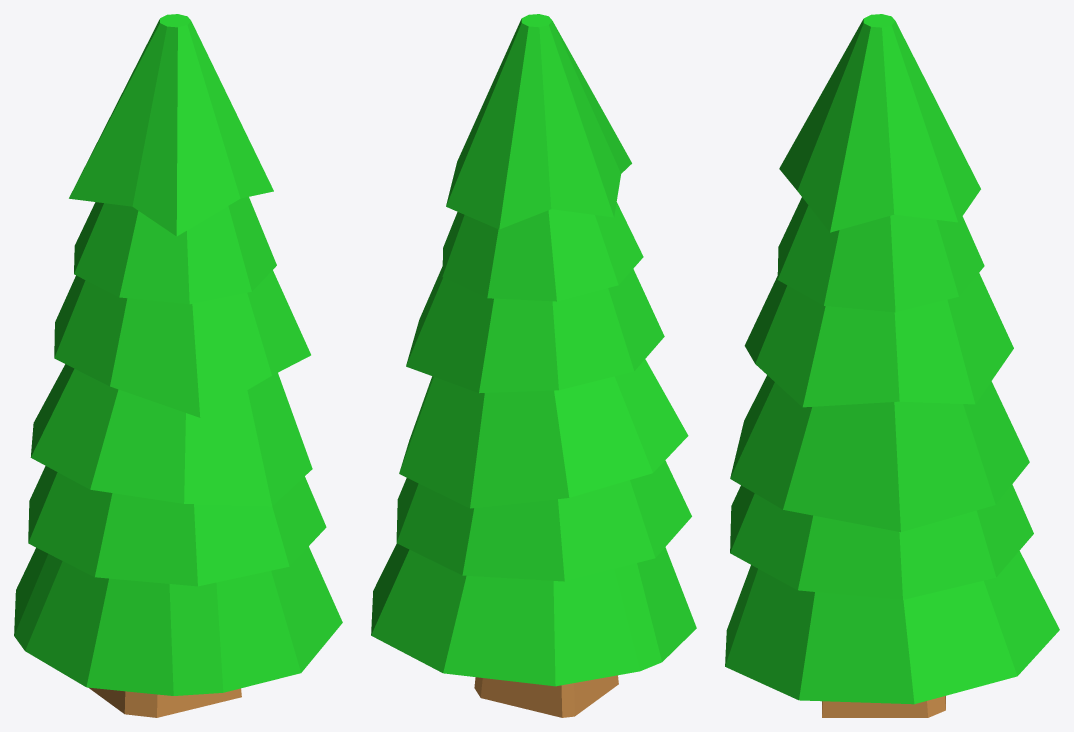
Rendered from pinetree.fbx.
The picture shows the model from 3 angles, left to right: view 1: azimuth 30°, elevation 25°; view 2: azimuth 150°, elevation 25°; view 3: azimuth 270°, elevation 25°; orthographic projection. The views are drawn at different scales.
Parts seen in each view (by area): view 1: Cylinder.005, Cylinder.003, Cylinder, Cylinder.002, Cylinder.004, Cylinder.001, Cube; view 2: Cylinder.005, Cylinder.003, Cylinder, Cylinder.004, Cylinder.002, Cylinder.001, Cube; view 3: Cylinder.005, Cylinder.003, Cylinder, Cylinder.002, Cylinder.004, Cylinder.001, Cube.
Part boxes in pixels (<box>): Cylinder.005: <box>14,546,342,695</box>; Cylinder.003: <box>30,364,312,506</box>; Cylinder: <box>69,14,273,236</box>; Cylinder.002: <box>54,270,310,417</box>; Cylinder.004: <box>28,466,326,586</box>; Cylinder.001: <box>74,197,276,304</box>; Cube: <box>88,687,241,717</box>; Cylinder.005: <box>371,543,696,686</box>; Cylinder.003: <box>399,359,688,508</box>; Cylinder: <box>446,14,631,229</box>; Cylinder.004: <box>396,460,691,581</box>; Cylinder.002: <box>406,266,664,393</box>; Cylinder.001: <box>442,202,643,301</box>; Cube: <box>474,675,618,717</box>; Cylinder.005: <box>725,551,1059,704</box>; Cylinder.003: <box>730,375,1029,532</box>; Cylinder: <box>779,14,980,232</box>; Cylinder.002: <box>744,273,1013,407</box>; Cylinder.004: <box>730,484,1033,599</box>; Cylinder.001: <box>777,197,984,312</box>; Cube: <box>822,696,945,717</box>.
Size of the model in its own units: 542 by 1206 by 540.
